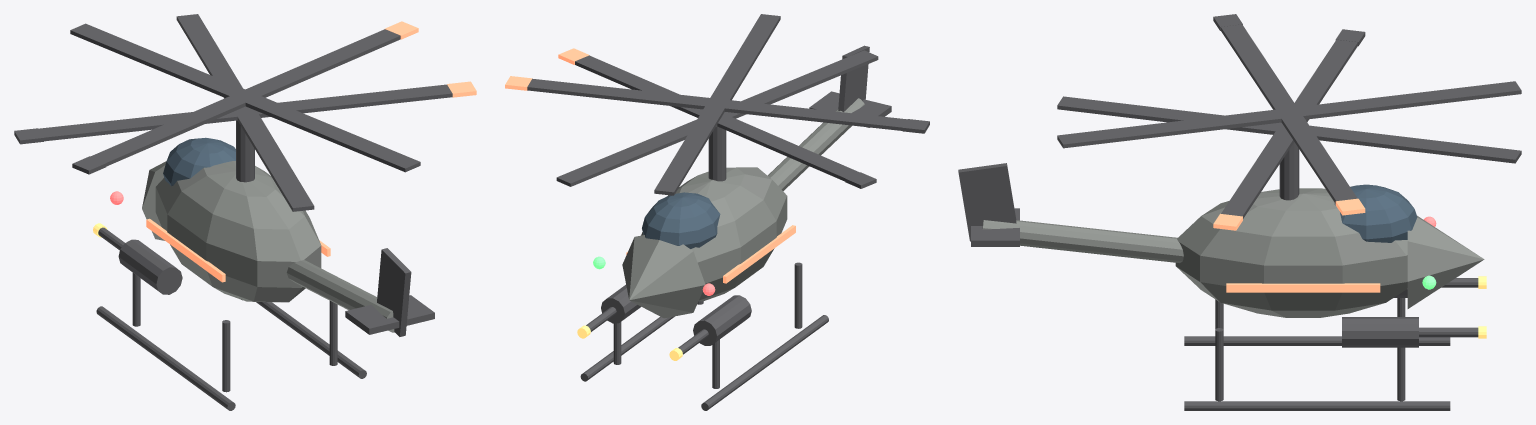
Rendered from rotorcraft.glb.
3 renders of one model, left to right at view 1: azimuth 30°, elevation 25°; view 2: azimuth 150°, elevation 25°; view 3: azimuth 270°, elevation 25°, orthographic. The views are drawn at different scales.
Parts seen in each view (by area): view 1: hull, rotor1_blade1, rotor1_blade0, rotor0_blade0, rotor0_blade1, boom, canopy, gunpod_L, fin_v, skid_L, fin_h, skid_R (+6 smaller); view 2: hull, nose, rotor1_blade0, rotor1_blade1, rotor0_blade1, rotor0_blade0, canopy, boom, gunpod_L, skid_L, fin_v, mast (+5 smaller); view 3: hull, rotor1_blade1, rotor0_blade1, rotor1_blade0, boom, rotor0_blade0, nose, canopy, fin_v, skid_R, gunpod_R, skid_L (+5 smaller).
Boxes of the visible parts, x1,y1,x2,y2 form: hull: [155, 161, 321, 302]; rotor1_blade1: [70, 23, 420, 172]; rotor1_blade0: [90, 29, 400, 166]; rotor0_blade0: [39, 84, 452, 141]; rotor0_blade1: [176, 14, 314, 211]; boom: [286, 260, 394, 332]; canopy: [163, 137, 235, 186]; gunpod_L: [118, 239, 182, 294]; fin_v: [377, 248, 411, 336]; skid_L: [96, 306, 235, 410]; fin_h: [345, 295, 434, 334]; skid_R: [256, 302, 366, 378]; hull: [641, 167, 787, 301]; nose: [622, 235, 705, 318]; rotor1_blade0: [527, 78, 907, 130]; rotor1_blade1: [654, 14, 780, 195]; rotor0_blade1: [556, 50, 878, 186]; rotor0_blade0: [575, 55, 859, 181]; canopy: [642, 192, 720, 248]; boom: [767, 98, 864, 191]; gunpod_L: [693, 295, 751, 345]; skid_L: [701, 315, 828, 410]; fin_v: [838, 45, 869, 111]; mast: [708, 126, 726, 181]; hull: [1175, 188, 1407, 317]; rotor1_blade1: [1057, 81, 1521, 148]; rotor0_blade1: [1057, 96, 1521, 163]; rotor1_blade0: [1220, 24, 1357, 203]; boom: [982, 220, 1183, 263]; rotor0_blade0: [1221, 39, 1357, 218]; nose: [1407, 215, 1484, 308]; canopy: [1334, 184, 1417, 242]; fin_v: [958, 163, 1016, 241]; skid_R: [1184, 401, 1450, 410]; gunpod_R: [1342, 317, 1418, 347]; skid_L: [1184, 336, 1450, 345].
Size of the model in its own units: 3.34 by 2.09 by 4.02.
